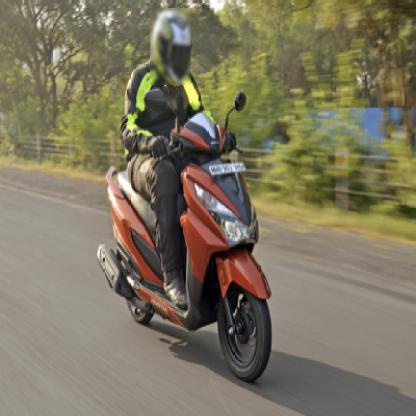Helmet: (142, 8, 200, 88)
